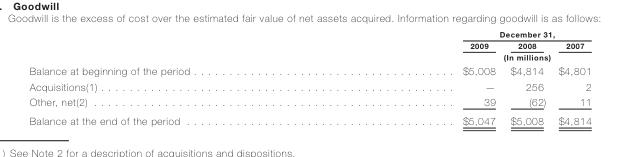table: (28, 29, 590, 125)
table column: (28, 29, 325, 125), (325, 29, 502, 125), (502, 29, 551, 125), (551, 29, 590, 125)
table column header: (28, 29, 590, 63)
table row: (28, 93, 590, 110), (28, 63, 590, 78), (28, 78, 590, 93), (28, 110, 590, 125), (28, 50, 590, 63), (28, 39, 590, 50), (28, 29, 590, 39)
table spanning cell: (325, 50, 590, 63), (325, 29, 590, 39)
